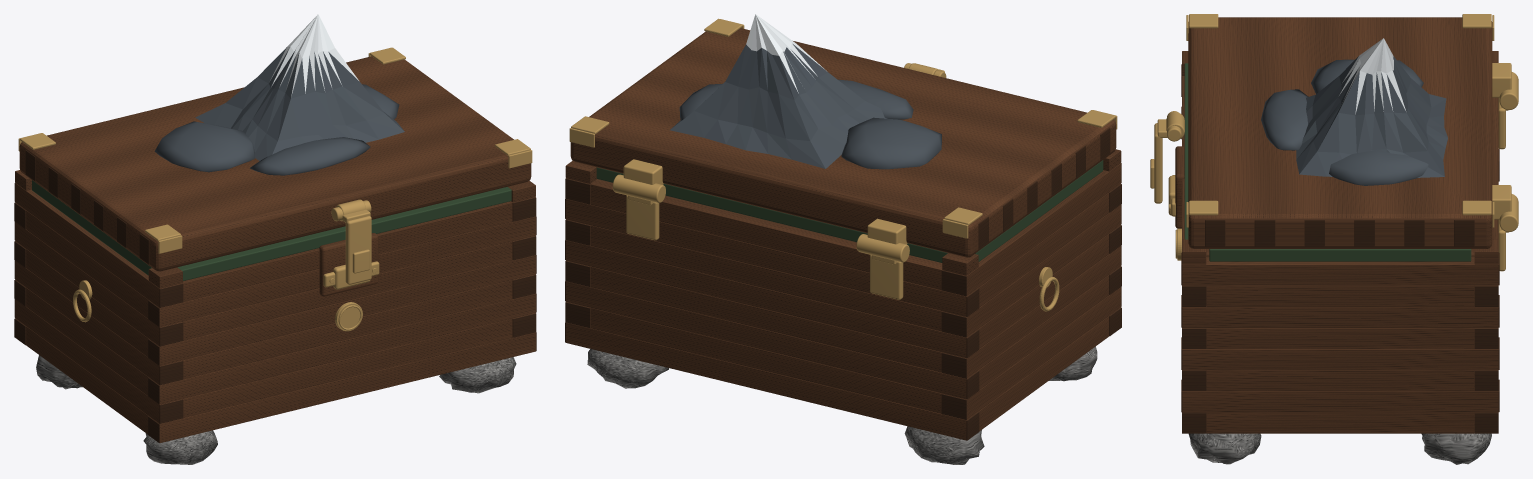
The model's file is switzerland.glb.
3 renders of one model, left to right at view 1: azimuth 30°, elevation 25°; view 2: azimuth 150°, elevation 25°; view 3: azimuth 270°, elevation 25°, orthographic. The views are drawn at different scales.
Visible parts, largest first — view 1: Lid / polished slab, Terrain / Matterhorn, Walnut / front course 2, Walnut / front course 0, Walnut / front course 4, Walnut / front course 1, Walnut / front course 3, Walnut / front course 6, Walnut / front course 5, Walnut / front course 7, Mineral seam / long, Terrain / foothill 0 (+17 smaller); view 2: Lid / polished slab, Terrain / Matterhorn, Walnut / rear course 2, Walnut / rear course 0, Walnut / rear course 4, Walnut / rear course 7, Walnut / rear course 5, Walnut / rear course 3, Walnut / rear course 1, Walnut / rear course 6, Terrain / foothill 0, Walnut / side course 7 (+22 smaller); view 3: Lid / polished slab, Terrain / Matterhorn, Walnut / side course 7.001, Walnut / side course 1.001, Walnut / side course 3.001, Walnut / side course 5.001, Walnut / side course 0.001, Walnut / side course 2.001, Walnut / side course 6.001, Walnut / side course 4.001, Mineral seam / side.001, Terrain / foothill 1 (+32 smaller).
Part boxes in pixels (box(x1,y1,x2,y2)): Lid / polished slab: box(19, 56, 531, 271); Terrain / Matterhorn: box(195, 14, 404, 160); Walnut / front course 2: box(149, 293, 535, 404); Walnut / front course 0: box(149, 332, 535, 442); Walnut / front course 4: box(149, 255, 535, 365); Walnut / front course 1: box(183, 318, 512, 417); Walnut / front course 3: box(183, 280, 512, 379); Walnut / front course 6: box(149, 216, 535, 327); Walnut / front course 5: box(183, 241, 512, 340); Walnut / front course 7: box(183, 201, 512, 302); Mineral seam / long: box(177, 187, 511, 280); Terrain / foothill 0: box(154, 121, 254, 172); Lid / polished slab: box(570, 28, 1116, 257); Terrain / Matterhorn: box(670, 14, 886, 168); Walnut / rear course 2: box(565, 281, 978, 399); Walnut / rear course 0: box(565, 322, 977, 440); Walnut / rear course 4: box(565, 240, 978, 358); Walnut / rear course 7: box(590, 179, 942, 290); Walnut / rear course 5: box(590, 225, 942, 331); Walnut / rear course 3: box(590, 266, 942, 372); Walnut / rear course 1: box(590, 308, 941, 413); Walnut / rear course 6: box(565, 199, 978, 316); Terrain / foothill 0: box(841, 117, 941, 169); Walnut / side course 7: box(942, 163, 1121, 295); Lid / polished slab: box(1188, 17, 1492, 248); Terrain / Matterhorn: box(1296, 38, 1447, 177); Walnut / side course 7.001: box(1182, 256, 1498, 285); Walnut / side course 1.001: box(1182, 391, 1498, 412); Walnut / side course 3.001: box(1182, 349, 1498, 370); Walnut / side course 5.001: box(1182, 306, 1498, 327); Walnut / side course 0.001: box(1206, 412, 1474, 433); Walnut / side course 2.001: box(1206, 370, 1474, 391); Walnut / side course 6.001: box(1206, 285, 1474, 306); Walnut / side course 4.001: box(1206, 328, 1474, 348); Mineral seam / side.001: box(1209, 249, 1471, 261); Terrain / foothill 1: box(1329, 150, 1428, 185).
Size of the model in its own units: 3.79 by 3.25 by 2.88.
Materials: 7 (3 with a texture image).
